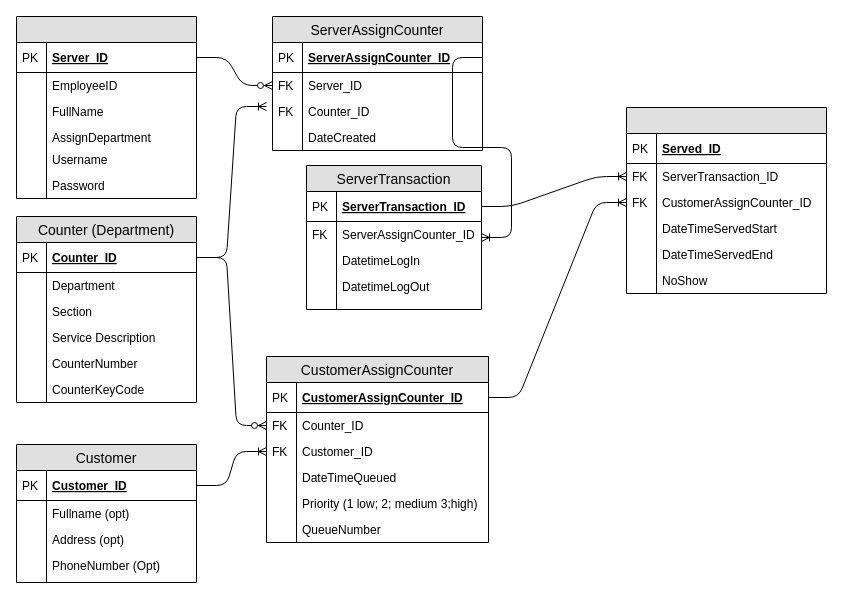
The diagram is 843 pixels wide and 599 high, and some of its shapes have lost their labels. The shapes that lost their labels are listed below. From the top down, each one's box as (x1, y1, x2, y2) in pixels, then its label:
(16, 16, 196, 198): Server (User Account)
(626, 106, 826, 294): ServedCustomer
